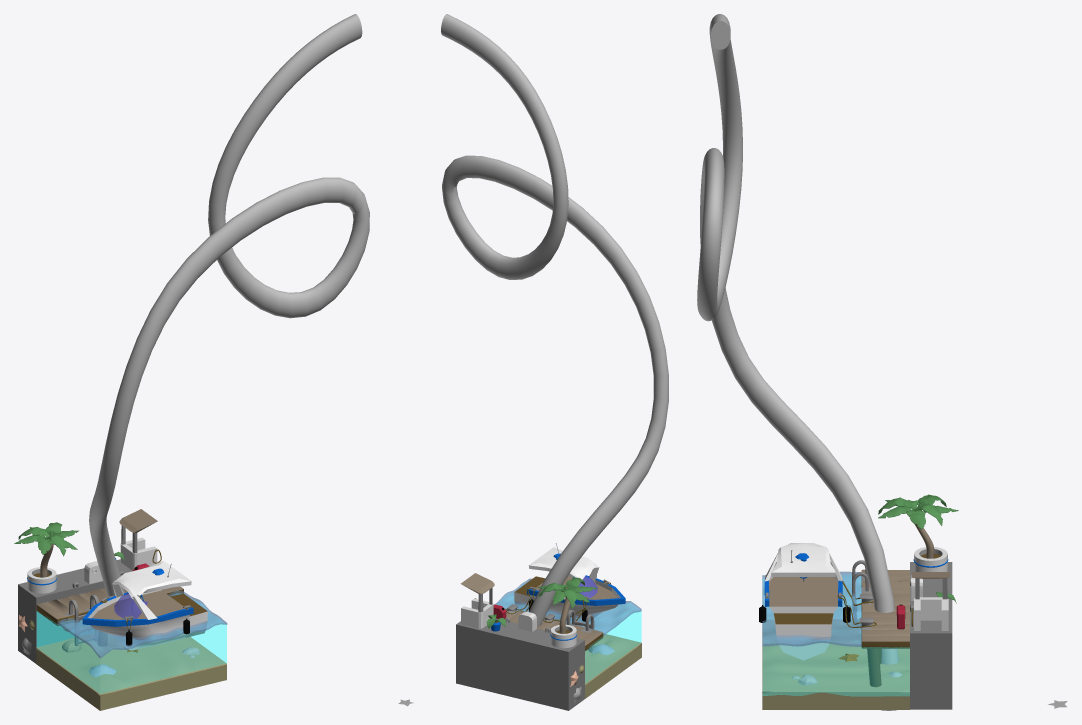
The model's file is maybeWorkFull.fbx.
The picture shows the model from 3 angles, left to right: view 1: azimuth 30°, elevation 25°; view 2: azimuth 150°, elevation 25°; view 3: azimuth 270°, elevation 25°; orthographic projection. The views are drawn at different scales.
Visible parts, largest first — view 1: Cord, pPlane17, boat_Obj:pPlane3, polySurface2, polySurface1, PierBlock, pPlane16, WoodPlanks, PierBooth, TreePlanter; view 2: Cord, PierBlock, boat_Obj:pPlane3, pPlane17, pPlane16, PierBooth, polySurface2, WoodPlanks, polySurface1, TreePlanter; view 3: Cord, pPlane17, boat_Obj:pPlane3, polySurface2, PierBlock, WoodPlanks, polySurface1, pPlane16, PierBooth, TreePlanter.
Boxes of the visible parts, x1,y1,x2,y2 form: Cord: [89, 14, 369, 596]; pPlane17: [36, 601, 226, 693]; boat_Obj:pPlane3: [82, 560, 207, 650]; polySurface2: [36, 634, 224, 694]; polySurface1: [36, 648, 226, 710]; PierBlock: [18, 559, 131, 663]; pPlane16: [57, 590, 227, 658]; WoodPlanks: [36, 586, 183, 646]; PierBooth: [119, 509, 157, 570]; TreePlanter: [27, 567, 56, 593]; Cord: [441, 14, 668, 626]; PierBlock: [456, 617, 584, 710]; boat_Obj:pPlane3: [514, 547, 625, 626]; pPlane17: [498, 593, 641, 683]; pPlane16: [495, 578, 641, 635]; PierBooth: [460, 573, 494, 628]; polySurface2: [585, 634, 641, 683]; WoodPlanks: [504, 604, 603, 652]; polySurface1: [585, 643, 641, 698]; TreePlanter: [550, 624, 576, 648]; Cord: [697, 14, 898, 710]; pPlane17: [763, 575, 909, 696]; boat_Obj:pPlane3: [764, 543, 842, 660]; polySurface2: [762, 619, 909, 690]; PierBlock: [910, 562, 952, 709]; WoodPlanks: [852, 560, 909, 648]; polySurface1: [762, 688, 909, 709]; pPlane16: [762, 571, 861, 646]; PierBooth: [911, 572, 950, 630]; TreePlanter: [913, 547, 948, 571].
Size of the model in its own units: 16.42 by 40.3 by 17.57.
